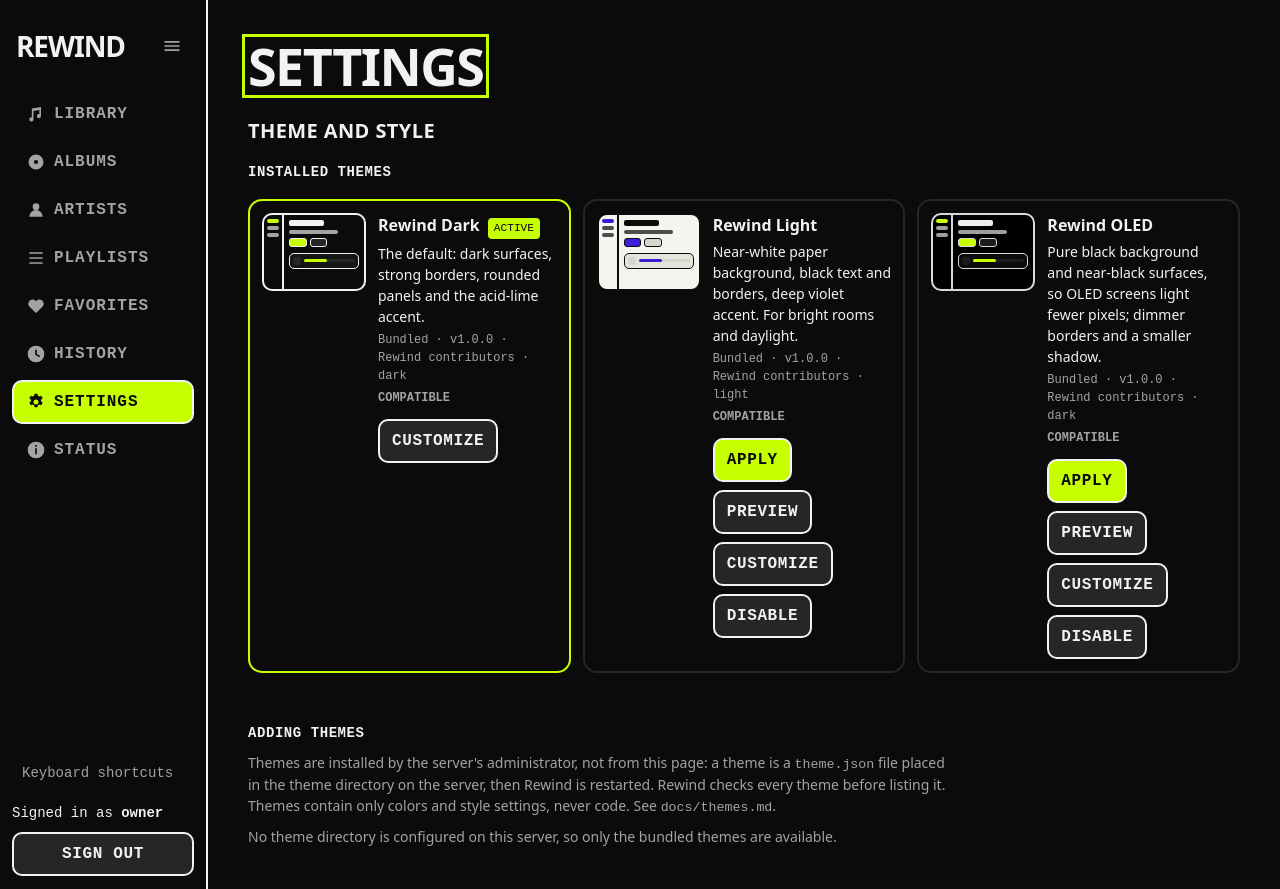
Scenario: Shell › themes › keeps the saved theme if applying fails
This screenshot has width=1280, height=889.
Step 1. Click the button "Apply" below "Rewind OLED" → (1087,481), box x1=1047 y1=459 x2=1126 y2=503
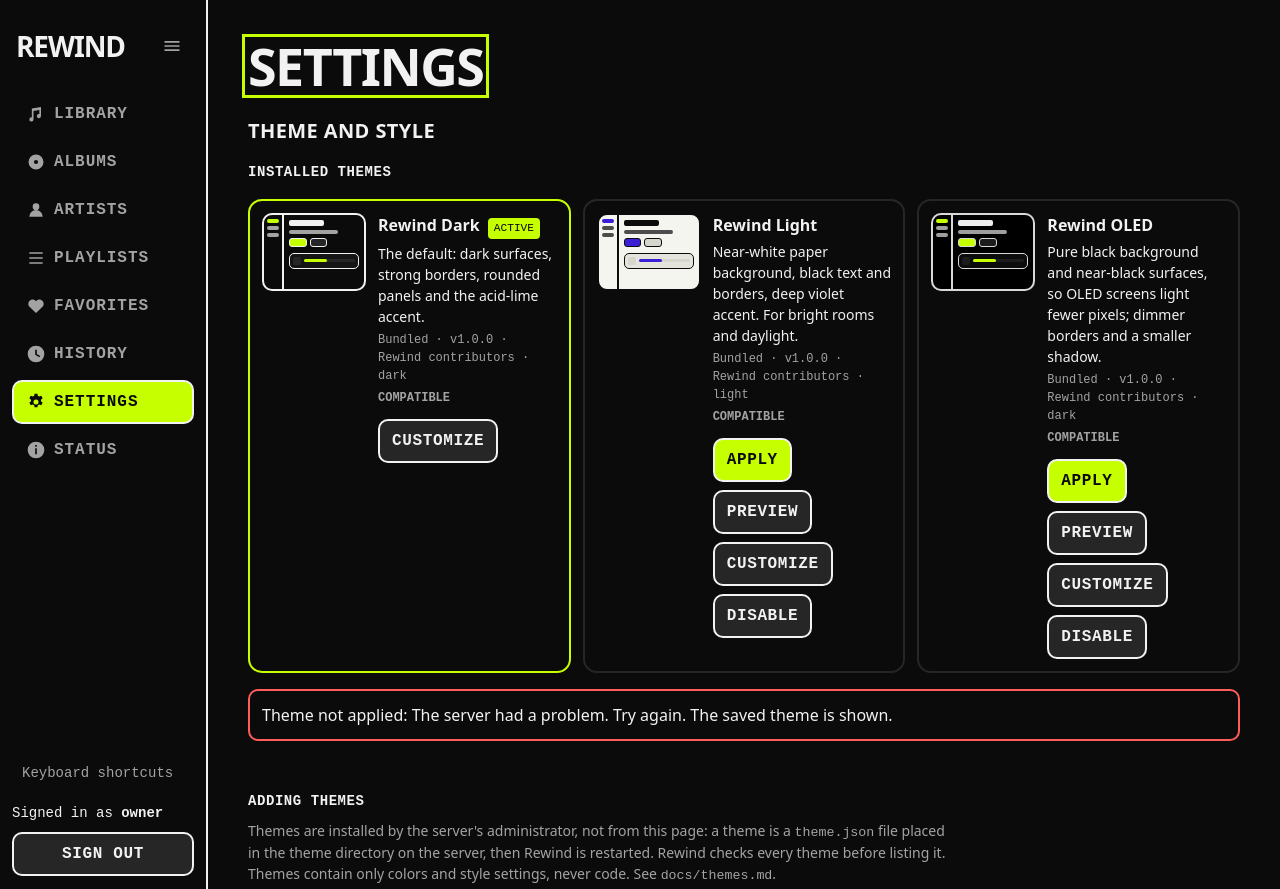
Result: the text "Theme not applied" is shown at x1=262 y1=704 x2=893 y2=726
